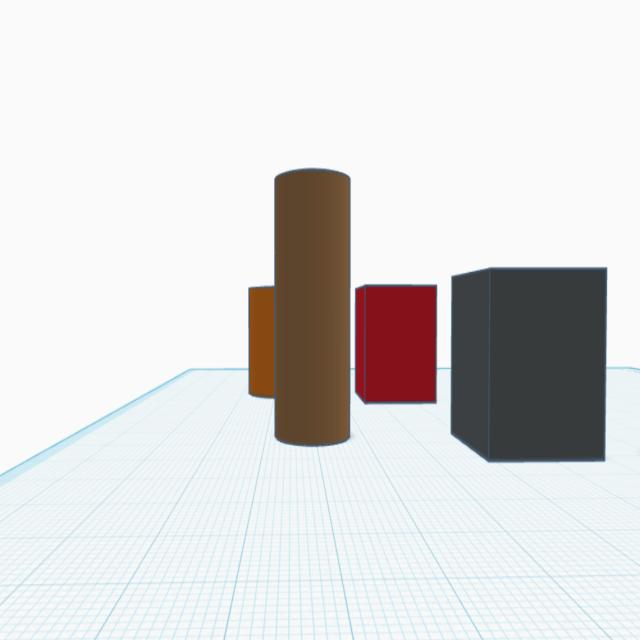cube: (448, 264, 610, 470), (353, 278, 439, 408)
